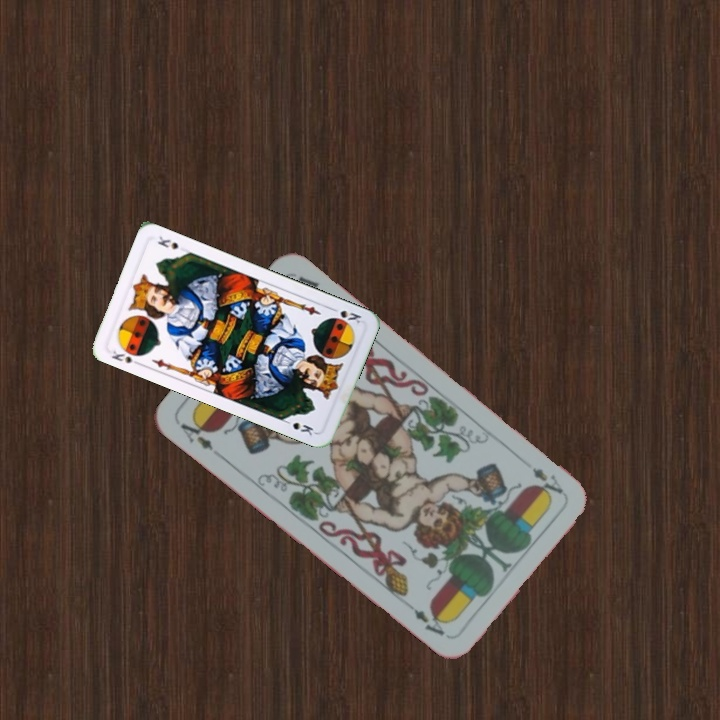EA: (176, 413, 216, 454), (528, 463, 567, 497)
SK: (326, 303, 364, 326), (107, 346, 144, 368)
